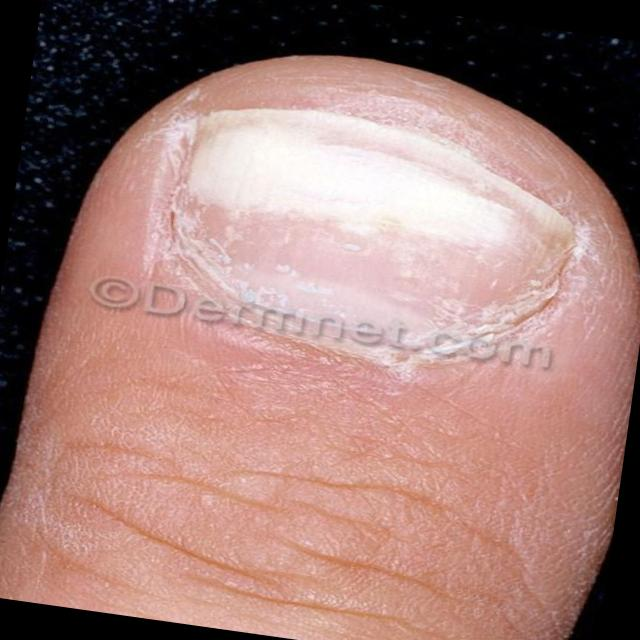Nail: (172, 110, 588, 343)
